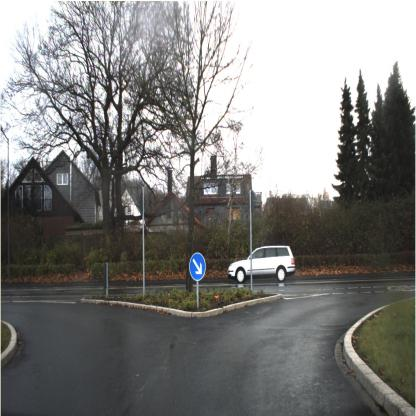keep right: (189, 251, 206, 280)
